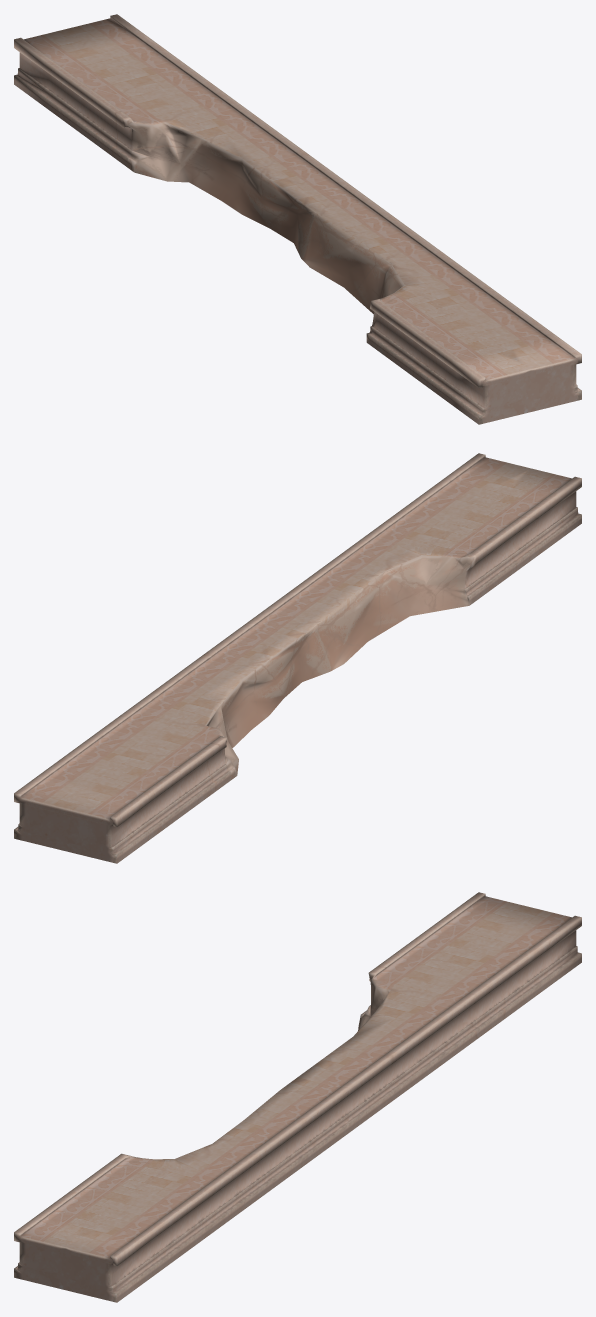
File: 左侧边缺口两格.fbx
The picture shows the model from 3 angles, top to bottom: view 1: azimuth 30°, elevation 25°; view 2: azimuth 150°, elevation 25°; view 3: azimuth 330°, elevation 25°; orthographic projection.
Visible parts, largest first — view 1: 平面.024; view 2: 平面.024; view 3: 平面.024.
Boxes of the visible parts, <box> form: 平面.024: <box>14,14,581,424</box>; 平面.024: <box>14,453,581,863</box>; 平面.024: <box>14,892,581,1302</box>.
Bounding box in the file's own units: 310 × 130 × 2419.
